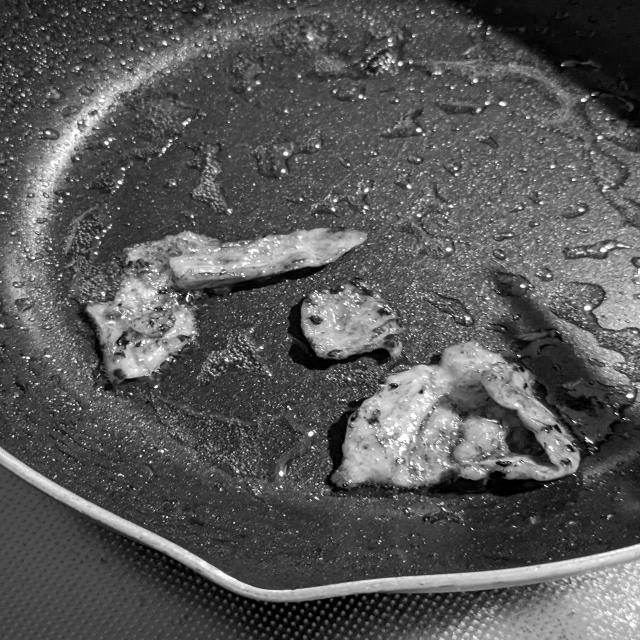OK cooked pork,: (65, 222, 374, 387), (315, 333, 595, 502), (289, 275, 415, 367)
